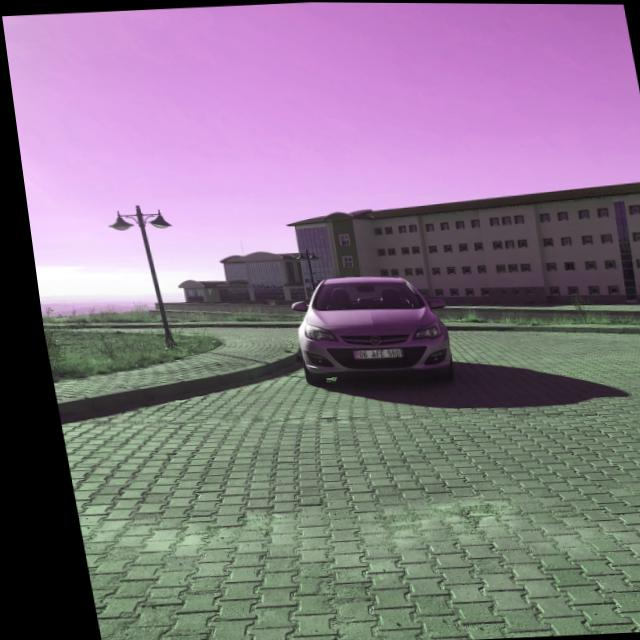license_plate: (343, 348, 394, 359)
